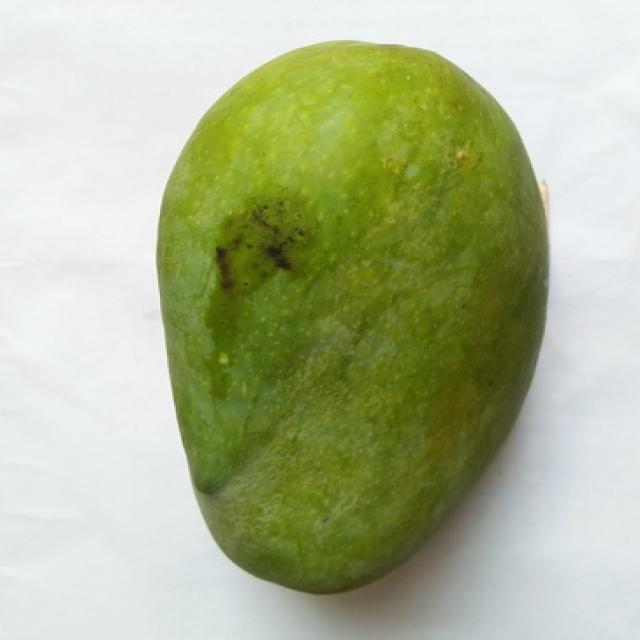Mango: (156, 43, 547, 592)
